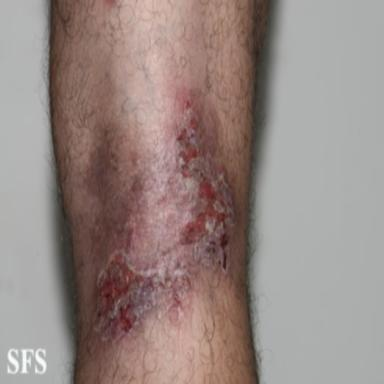Hailey-Hailey-Disease: (90, 91, 235, 344)
